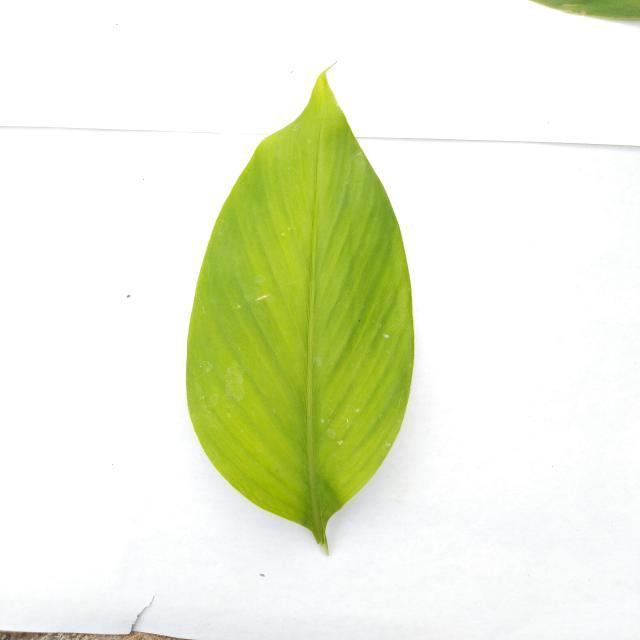turmeric: (187, 72, 413, 551)
